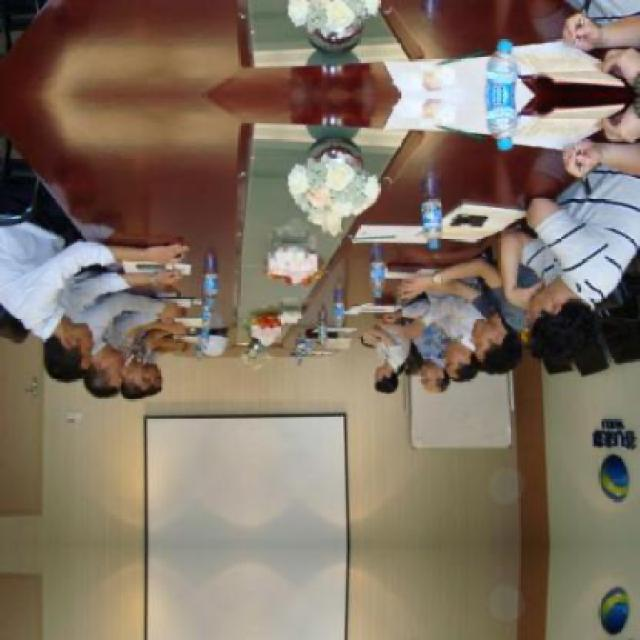sin casco: (510, 246, 617, 354), (32, 312, 96, 386), (395, 326, 473, 384), (458, 310, 524, 374), (358, 346, 426, 406), (89, 360, 167, 410), (74, 344, 138, 401)
